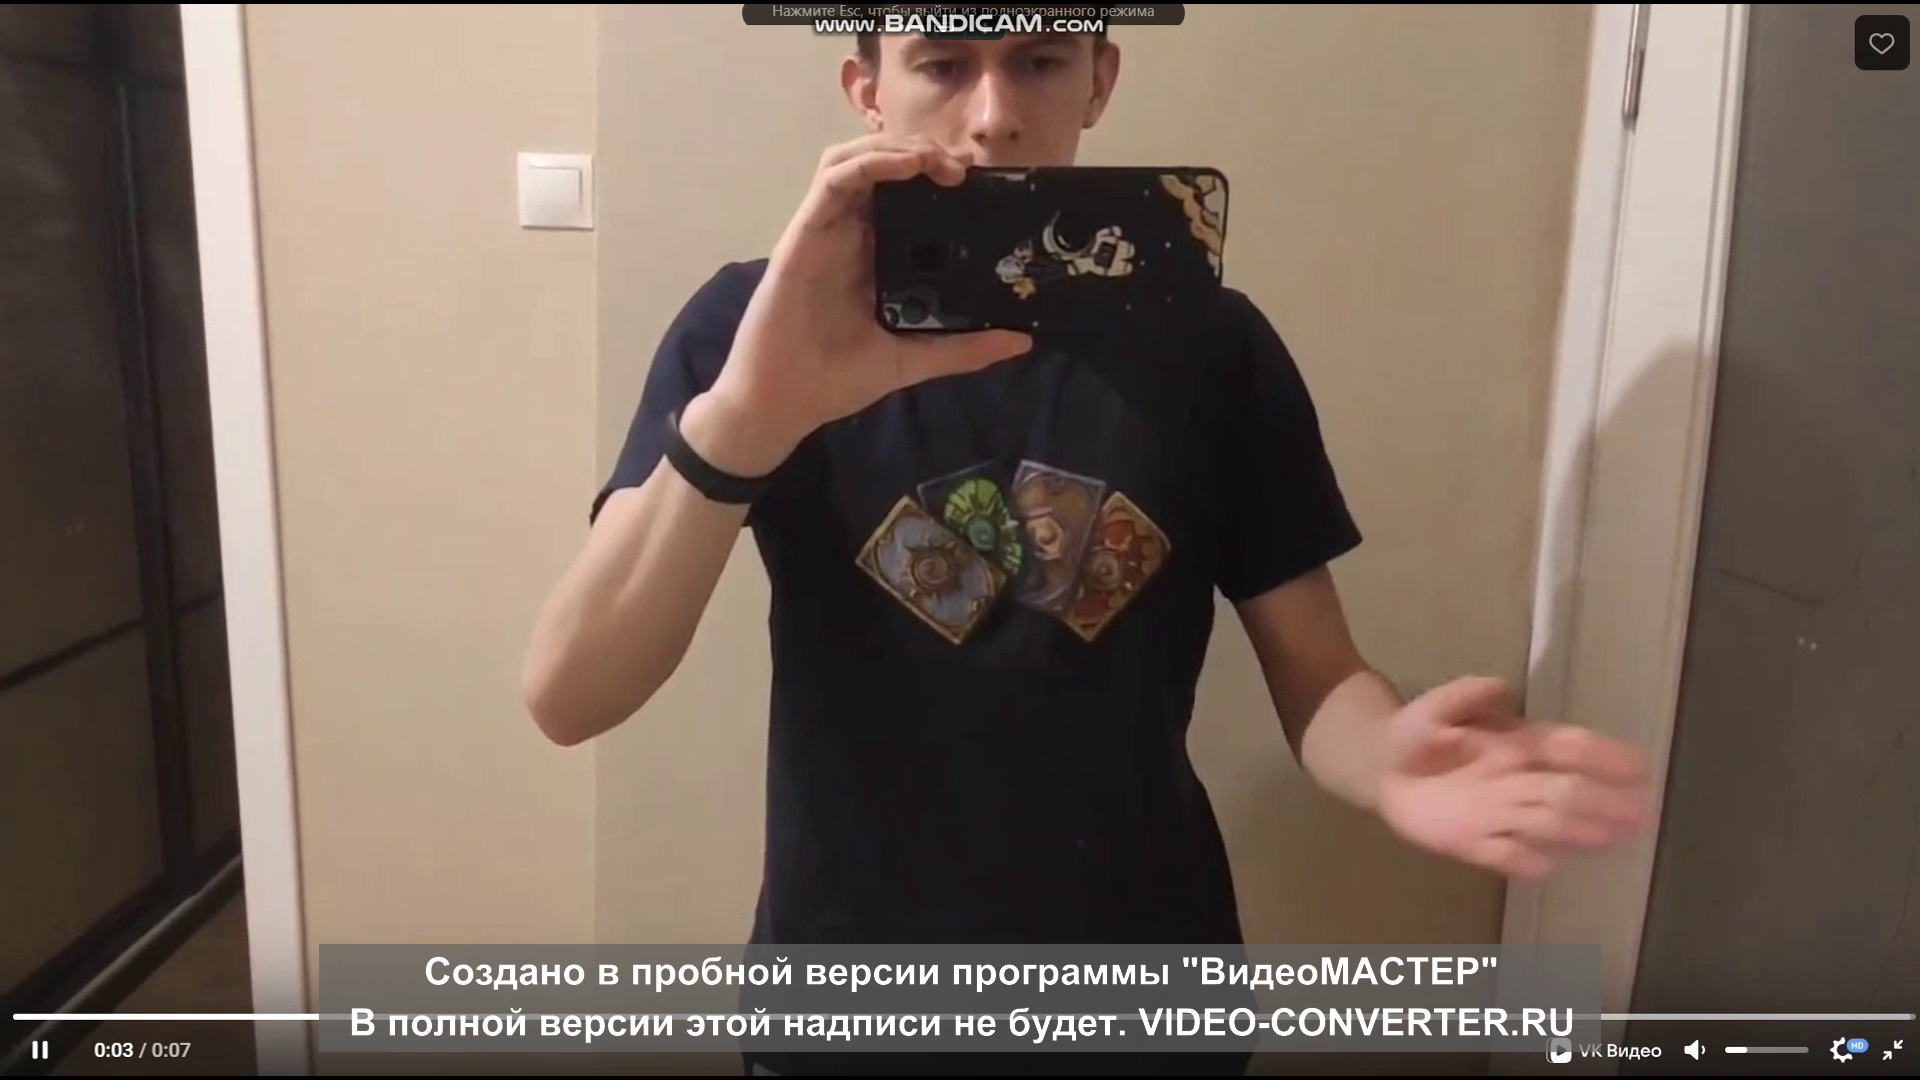Ладонь: (1385, 673, 1652, 881)
